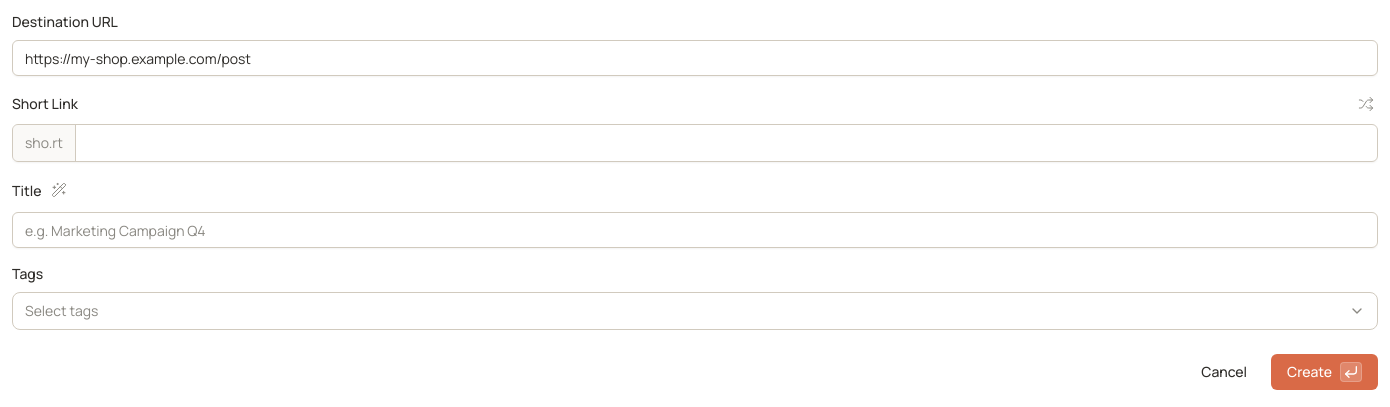
it: LinkFormFields › title suggestion › derives the title from the hostname when the server has no title
Click the button named "Suggest a title from the page": point(59, 190) left=47, top=178, right=71, bottom=202
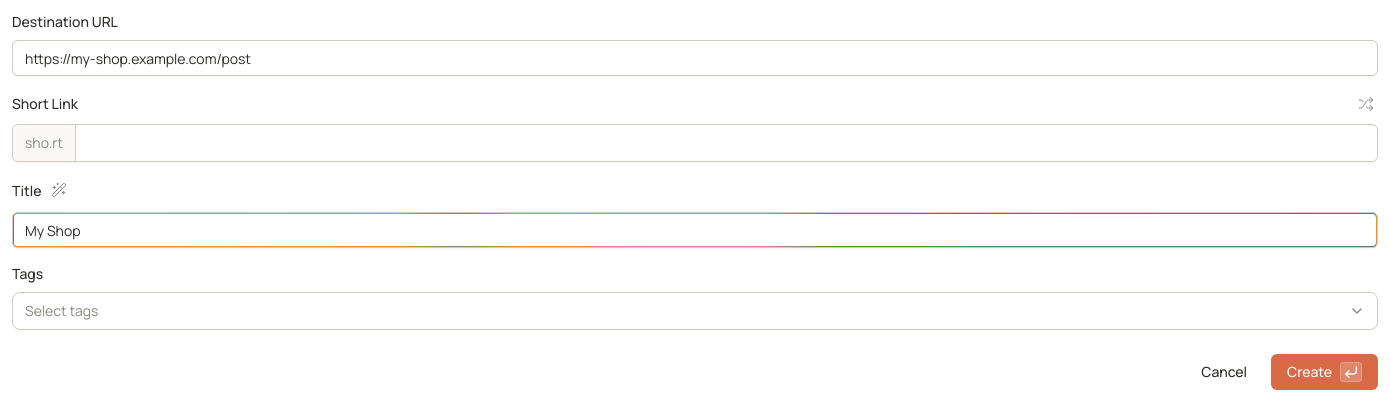
Expected: the field labelled "Title" holds "My Shop", left=12, top=212, right=1378, bottom=248
